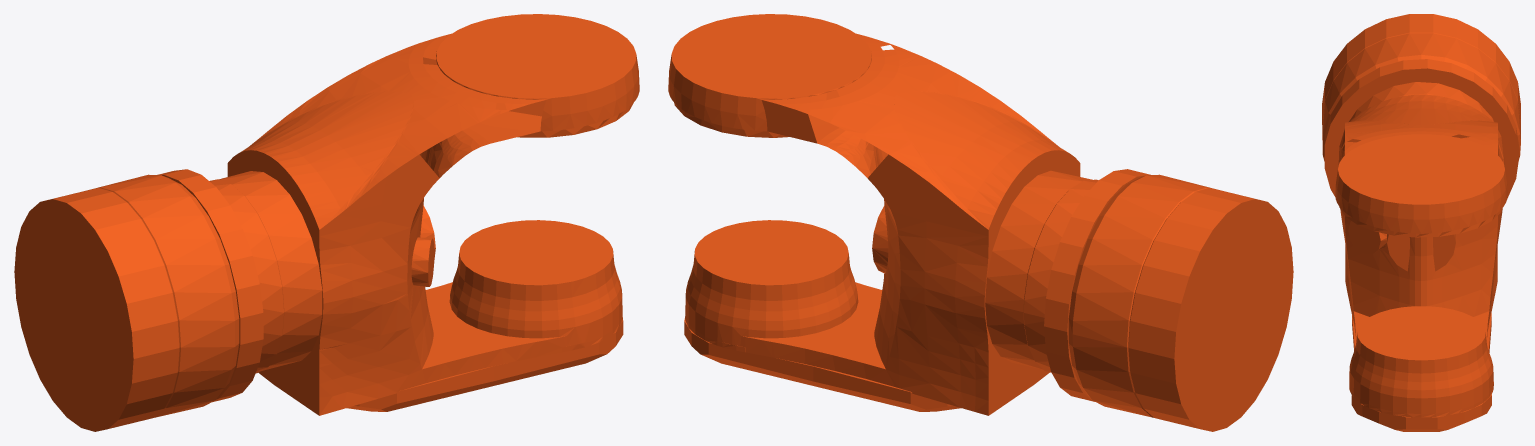
3 renders of one model, left to right at view 1: azimuth 30°, elevation 25°; view 2: azimuth 150°, elevation 25°; view 3: azimuth 270°, elevation 25°, orthographic. The views are drawn at different scales.
Parts seen in each view (by area): view 1: skpF1D1 (×4); view 2: skpF1D1 (×4); view 3: skpF1D1 (×4).
Boxes of the visible parts, x1,y1,x2,y2 form: skpF1D1 (×4): (14, 14, 639, 431); skpF1D1 (×4): (668, 14, 1293, 431); skpF1D1 (×4): (1322, 14, 1520, 431).
Bounding box in the file's own units: 25.47 × 9.53 × 13.27.
